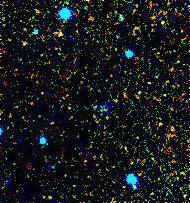star: (43, 19, 73, 49)
